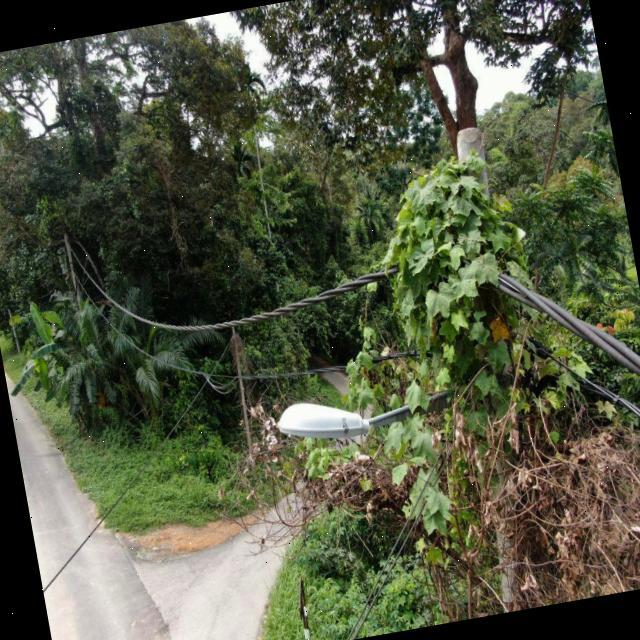critical vegetation: (357, 136, 570, 502)
